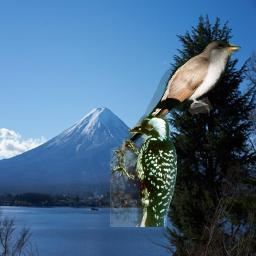Cuckoo: (120, 40, 242, 152)
Woodpecker: (110, 114, 177, 227)
